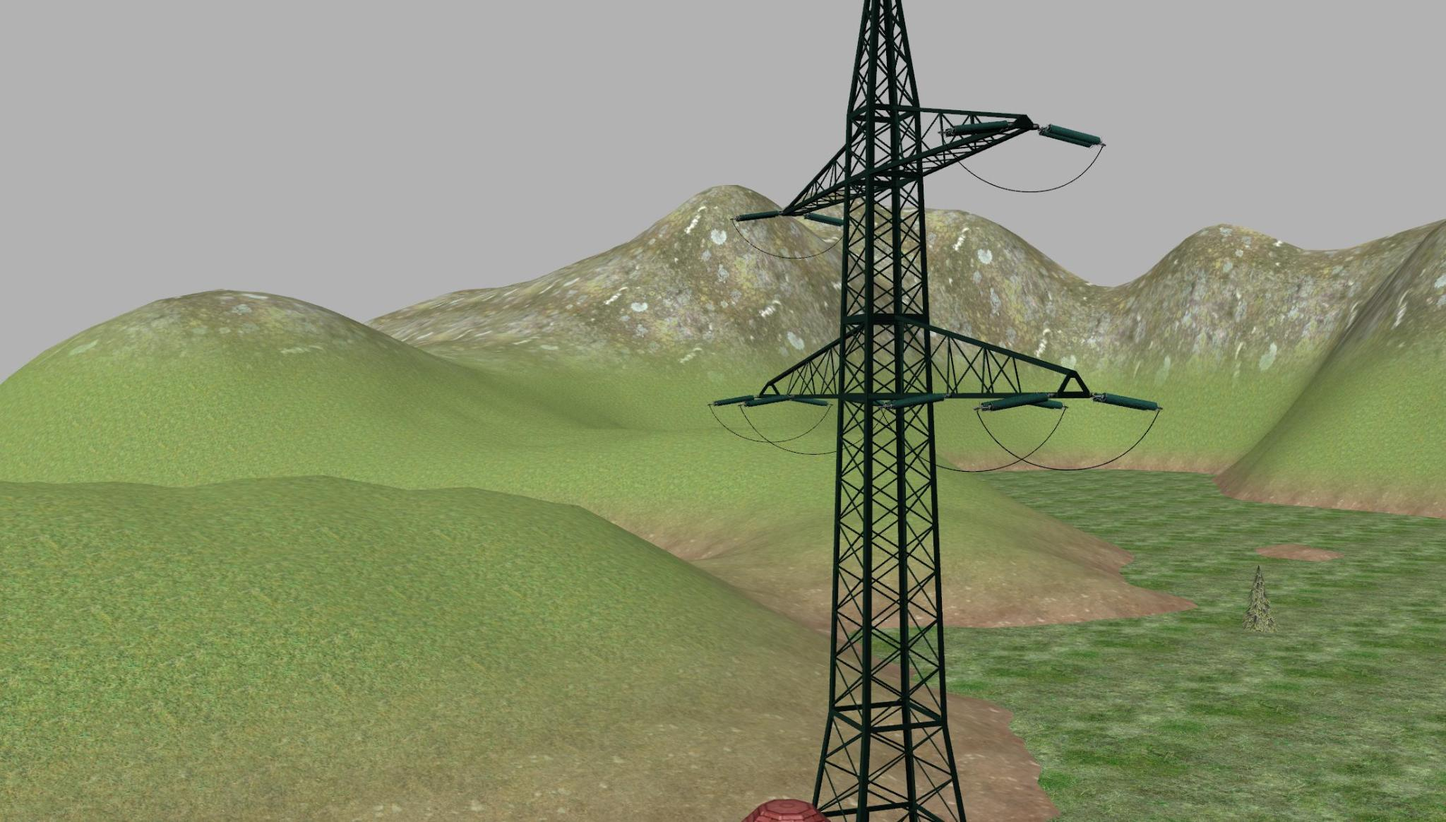tower: (765, 0, 1083, 822)
